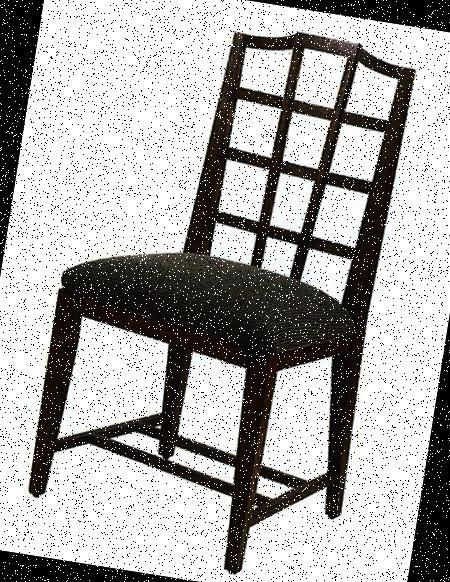Silla: (18, 7, 422, 581)
